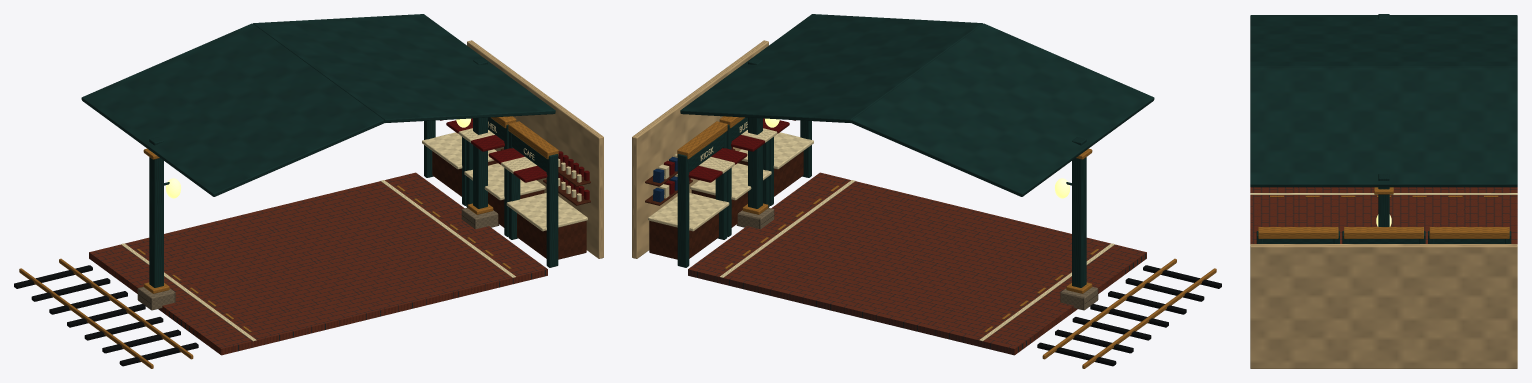
File: station-shops-v1-WZjHob2g.glb
The picture shows the model from 3 angles, left to right: view 1: azimuth 30°, elevation 25°; view 2: azimuth 150°, elevation 25°; view 3: azimuth 270°, elevation 25°; orthographic projection.
Parts seen in each view (by area): view 1: Fluted iron column, Platform paving, Platform edge stripe, Shop rear wall, Shop display cabinet, Tactile edge stud, Rail sleeper, Coffee tin, Column stone plinth; view 2: Fluted iron column, Platform paving, Shop rear wall, Platform edge stripe, Tactile edge stud, Rail sleeper, Shop display cabinet, Coffee tin, Column stone plinth; view 3: Fluted iron column, Shop rear wall, Platform paving, Tactile edge stud, Platform edge stripe.
Part boxes in pixels (box(x1,y1,x2,y2)): Fluted iron column: box(81, 14, 558, 287); Platform paving: box(89, 172, 547, 355); Platform edge stripe: box(121, 121, 587, 341); Shop rear wall: box(467, 40, 603, 258); Shop display cabinet: box(432, 148, 590, 259); Tactile edge stud: box(19, 116, 558, 368); Rail sleeper: box(14, 265, 198, 366); Coffee tin: box(440, 118, 589, 199); Column stone plinth: box(137, 207, 499, 310); Fluted iron column: box(677, 14, 1154, 287); Platform paving: box(688, 172, 1146, 355); Shop rear wall: box(632, 40, 768, 258); Platform edge stripe: box(648, 121, 1114, 341); Tactile edge stud: box(677, 116, 1216, 368); Rail sleeper: box(1037, 265, 1221, 366); Shop display cabinet: box(645, 148, 803, 259); Coffee tin: box(664, 118, 795, 194); Column stone plinth: box(736, 207, 1098, 310); Fluted iron column: box(1250, 14, 1517, 243); Shop rear wall: box(1250, 244, 1517, 368); Platform paving: box(1250, 187, 1517, 243); Tactile edge stud: box(1258, 187, 1509, 238); Platform edge stripe: box(1250, 193, 1517, 194).
Bounding box in the file's own units: 15.39 × 6.12 × 7.5.
Materials: 11 (11 with a texture image).
